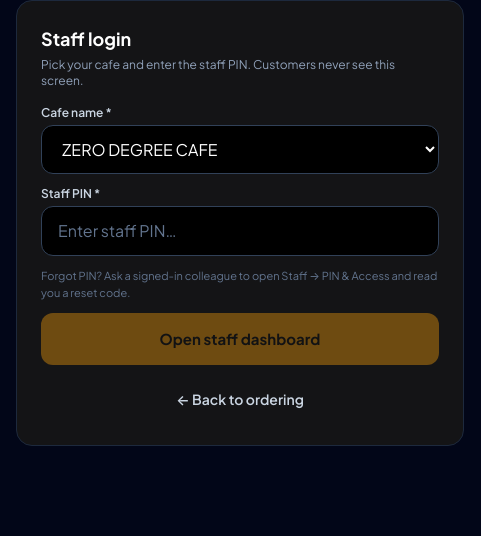
it: StaffLogin › rejects a wrong PIN with a fix, not just failure
This screenshot has width=481, height=536.
Type "wrong-pin" into the password field labelled "Staff PIN *" at (240, 231), box [41, 206, 439, 256]
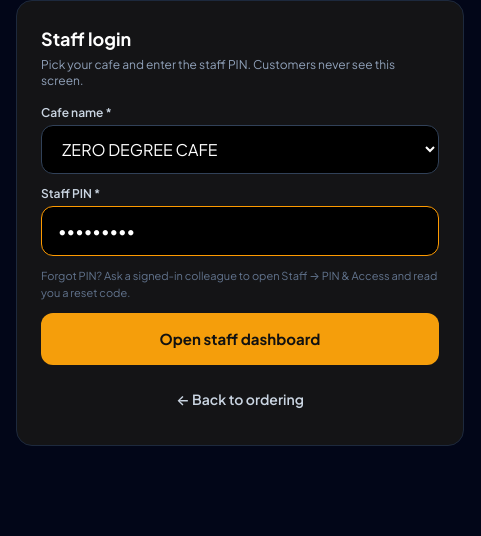
Click the button "Open staff dashboard" at (240, 339), box [41, 313, 439, 365]
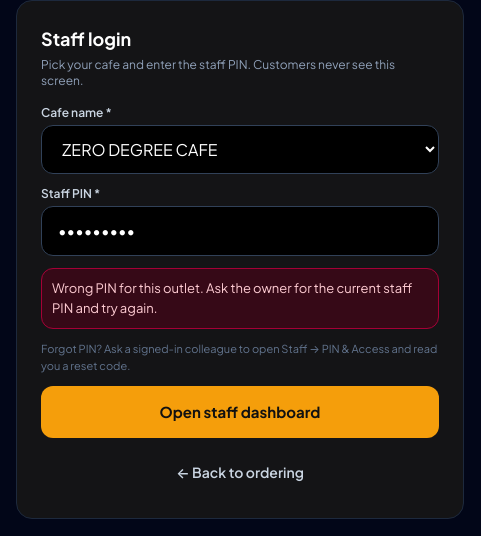
Expected: the message shows "Ask the owner for the current staff PIN", [52, 280, 412, 316]
